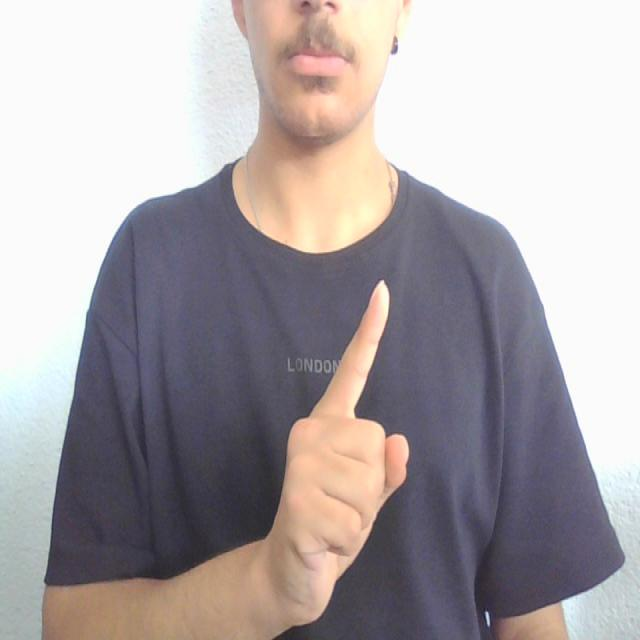Hayir: (268, 260, 438, 640)
